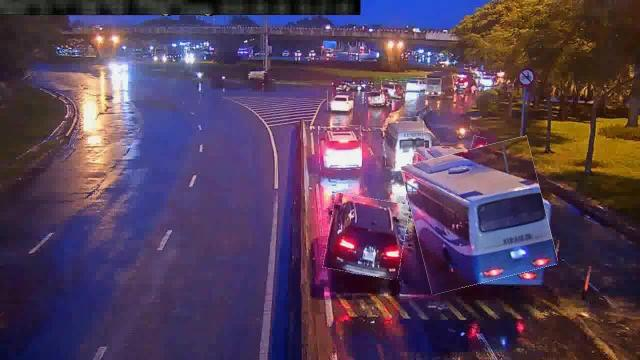Bike: (470, 136, 486, 158)
Bus: (408, 143, 552, 289), (384, 117, 424, 168)
Car: (326, 195, 406, 277), (318, 126, 362, 170), (380, 80, 408, 100), (328, 91, 354, 111), (366, 90, 394, 105), (407, 78, 428, 90)
Truck: (425, 72, 453, 98)
